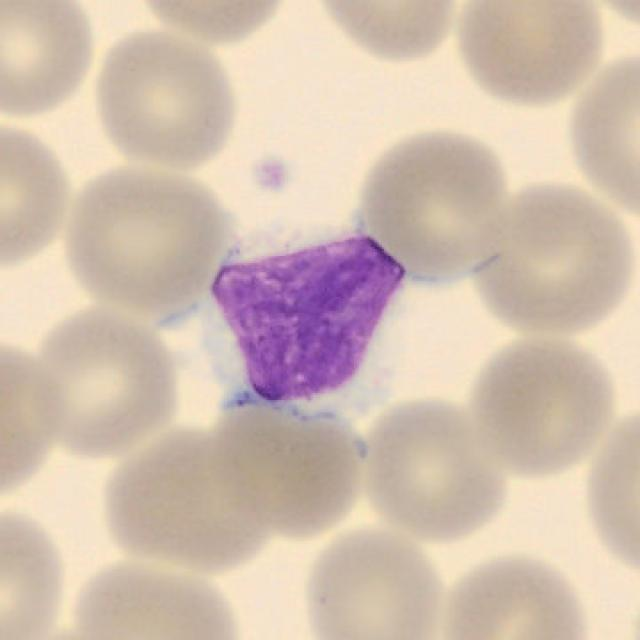Linfocito atipico: (156, 210, 405, 441)
